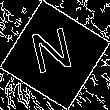N_S: (30, 26, 80, 84)
